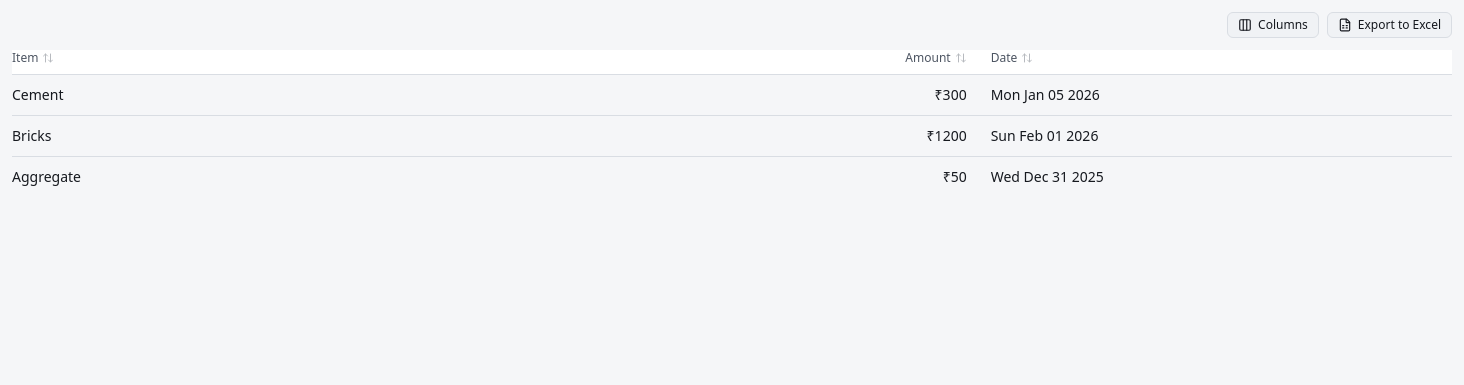
Test: data grid layout › reorders columns with the move buttons and keeps focus on the button
This screenshot has width=1464, height=385.
Later steps or results of the test are not shown.
Click the button "Columns": [1273, 25] box x1=1227 y1=12 x2=1319 y2=38
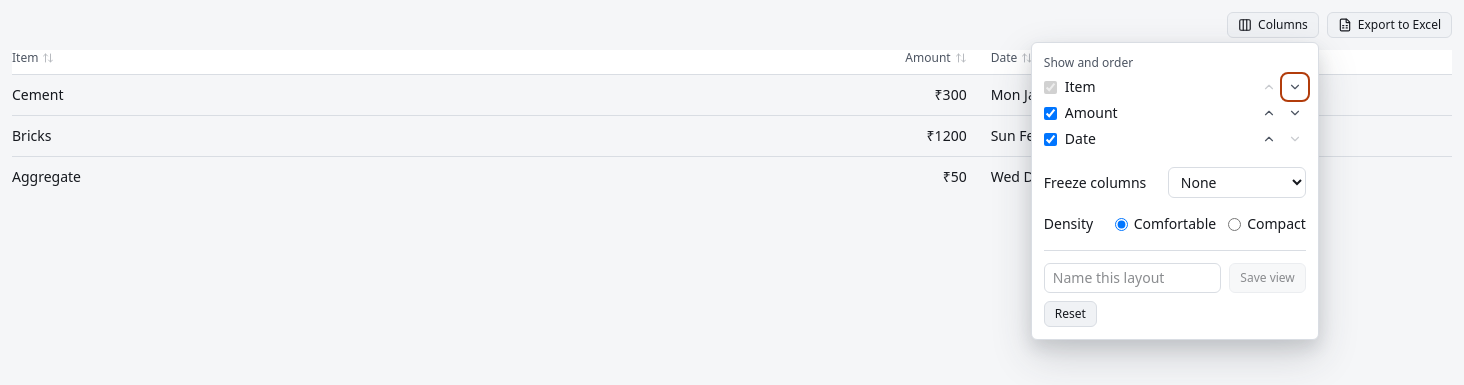
expect the button named "Move Item up" is disabled: met, box x1=1258 y1=76 x2=1280 y2=98
